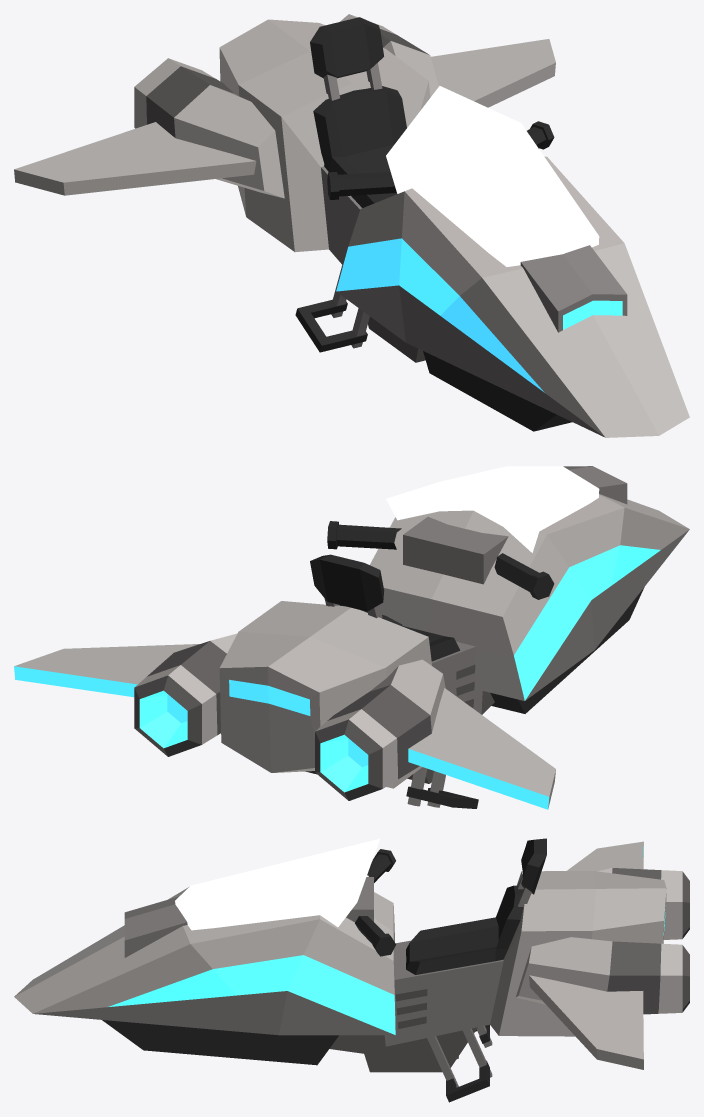
The model's file is scifi-scifi-hooverbike.glb.
The picture shows the model from 3 angles, top to bottom: view 1: azimuth 30°, elevation 25°; view 2: azimuth 150°, elevation 25°; view 3: azimuth 270°, elevation 25°; orthographic projection. The views are drawn at different scales.
Visible parts, largest first — view 1: scifi-hooverbike; view 2: scifi-hooverbike; view 3: scifi-hooverbike.
Part boxes in pixels (<box>): scifi-hooverbike: <box>14,14,689,437</box>; scifi-hooverbike: <box>14,466,689,809</box>; scifi-hooverbike: <box>14,838,689,1102</box>.
Size of the model in its own units: 1.98 by 1 by 2.6.
